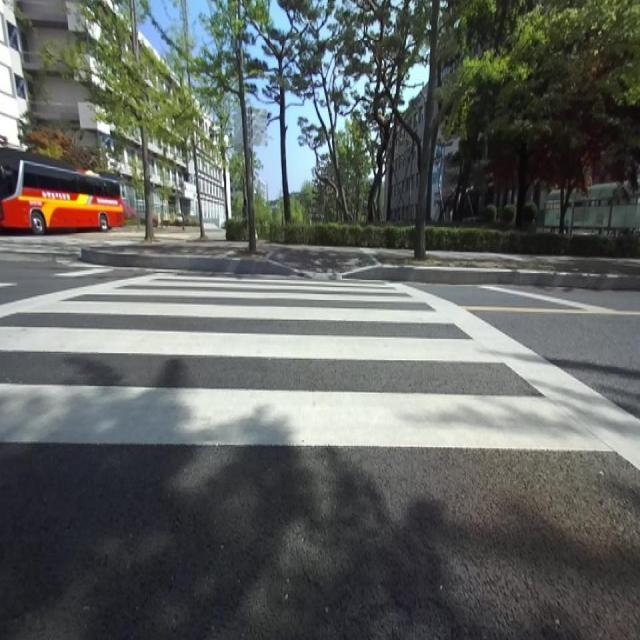sidewalk: (270, 243, 413, 272)
